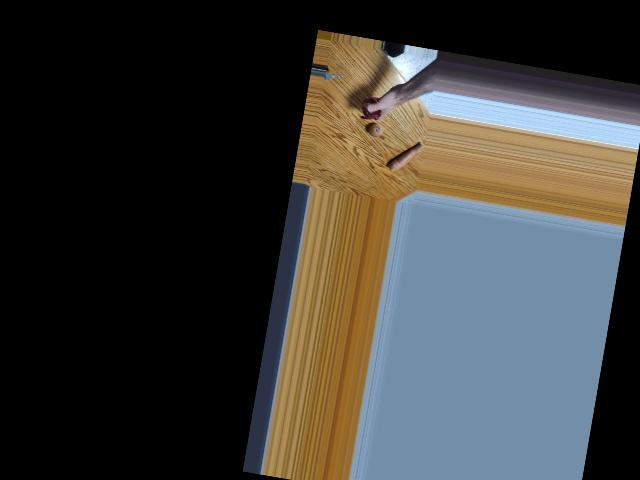onion: (362, 98, 384, 121)
